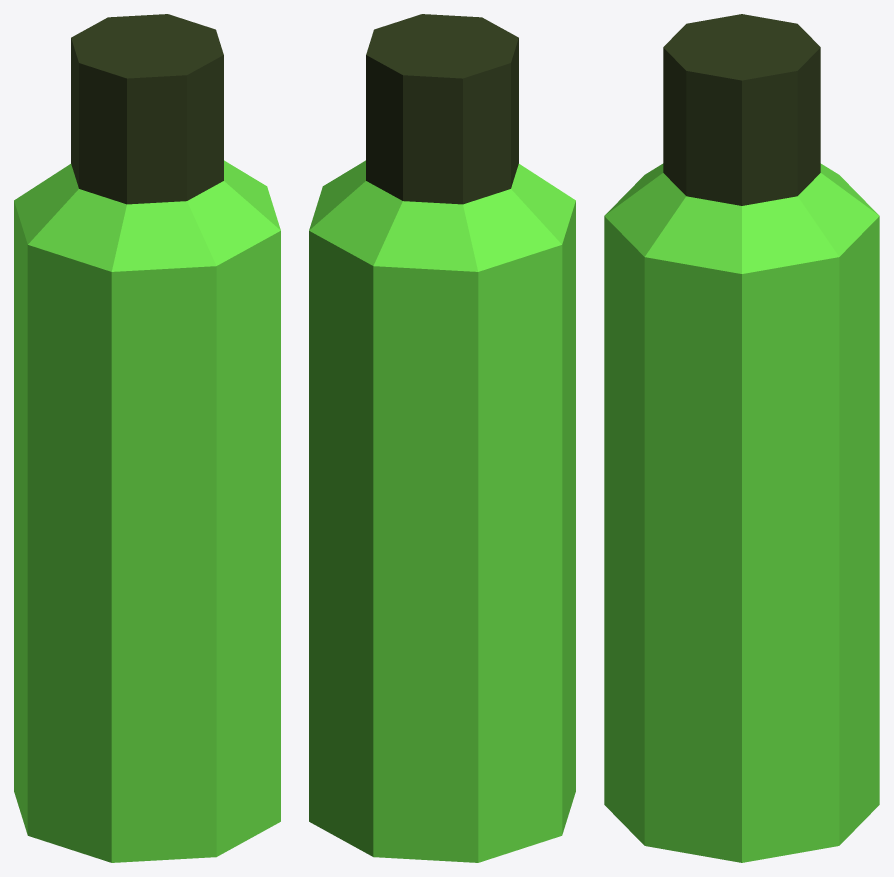
File: Prop_Beauty_06.fbx
The picture shows the model from 3 angles, left to right: view 1: azimuth 30°, elevation 25°; view 2: azimuth 150°, elevation 25°; view 3: azimuth 270°, elevation 25°; orthographic projection.
Visible parts, largest first — view 1: Prop_Beauty_06; view 2: Prop_Beauty_06; view 3: Prop_Beauty_06.
Part boxes in pixels (bbox=[...]): Prop_Beauty_06: bbox=[14, 14, 280, 862]; Prop_Beauty_06: bbox=[309, 14, 575, 862]; Prop_Beauty_06: bbox=[604, 14, 879, 862].
Size of the model in its own units: 9.26 by 28.1 by 9.26.
